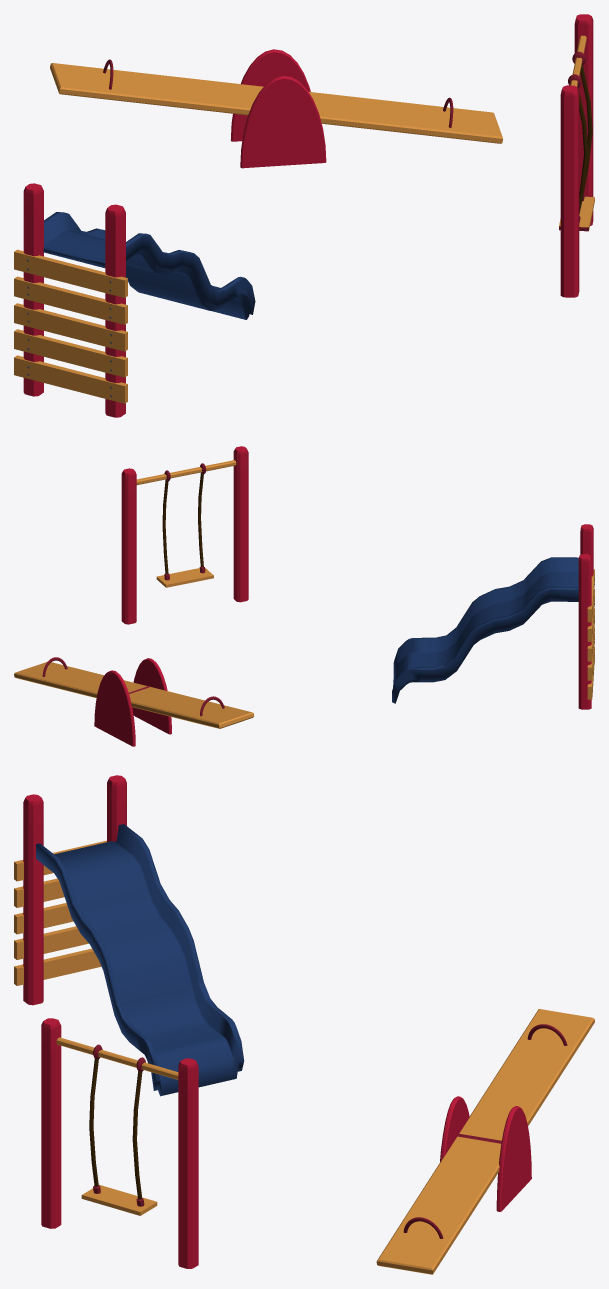
Rendered from Playground.fbx.
The picture shows the model from 3 angles, top to bottom: view 1: azimuth 30°, elevation 25°; view 2: azimuth 150°, elevation 25°; view 3: azimuth 270°, elevation 25°; orthographic projection. The views are drawn at different scales.
Visible parts, largest first — view 1: Nails2, Seesaw, polySurface2; view 2: Nails2, Seesaw, polySurface2; view 3: Nails2, Seesaw, polySurface2.
Part boxes in pixels (x1,y1,x2,y2): Nails2: (14,183,255,417); Seesaw: (50,49,502,168); polySurface2: (559,14,594,297); Nails2: (392,524,594,709); Seesaw: (14,657,254,746); polySurface2: (121,446,248,624); Nails2: (14,775,244,1096); Seesaw: (376,1009,594,1274); polySurface2: (41,1018,198,1268).
Bounding box in the file's own units: 10.83 × 3.37 × 8.68.
